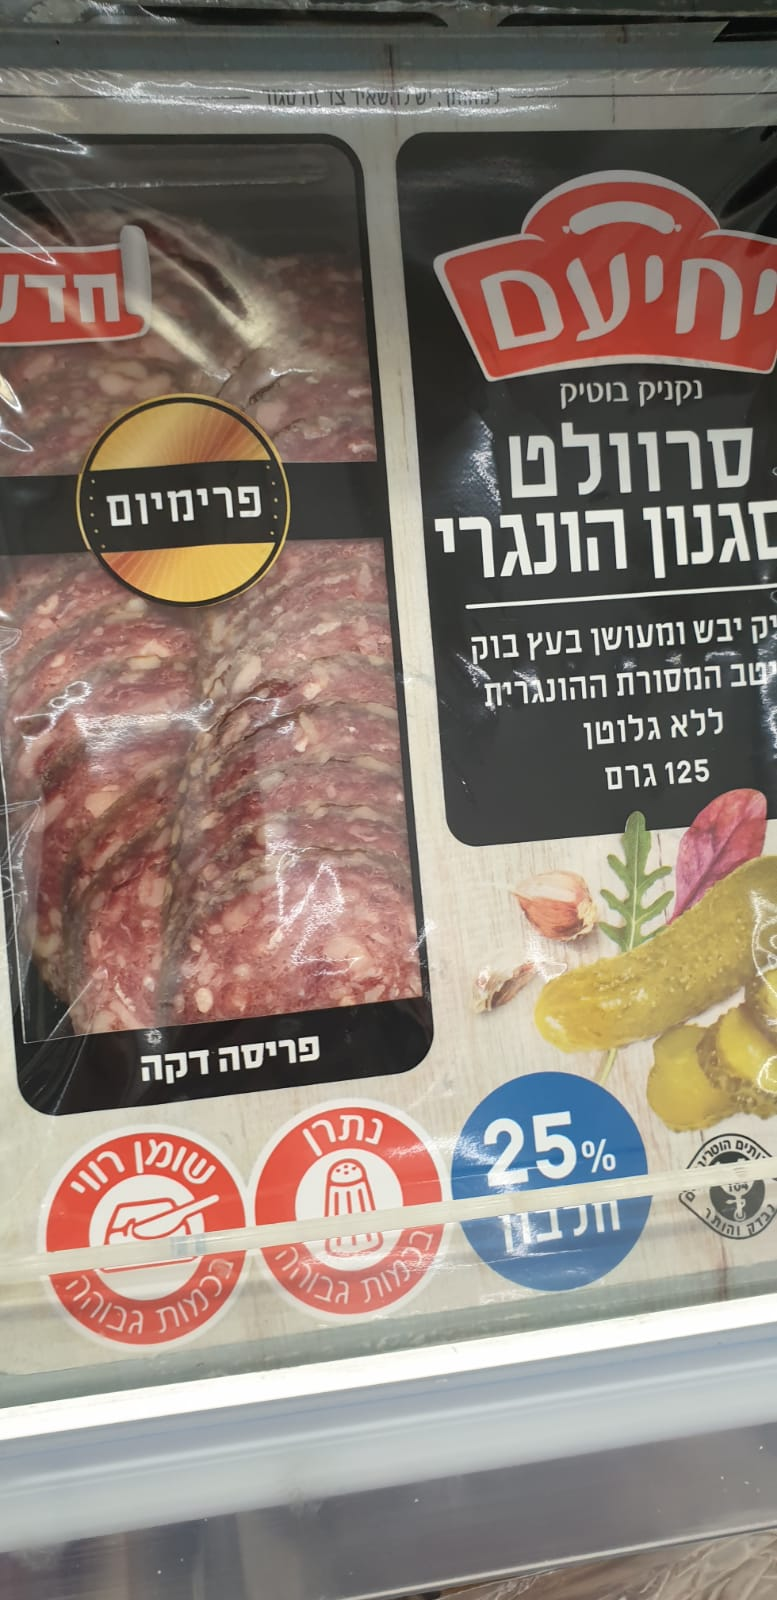fat: (40, 1124, 249, 1353)
salt: (249, 1096, 450, 1321)
